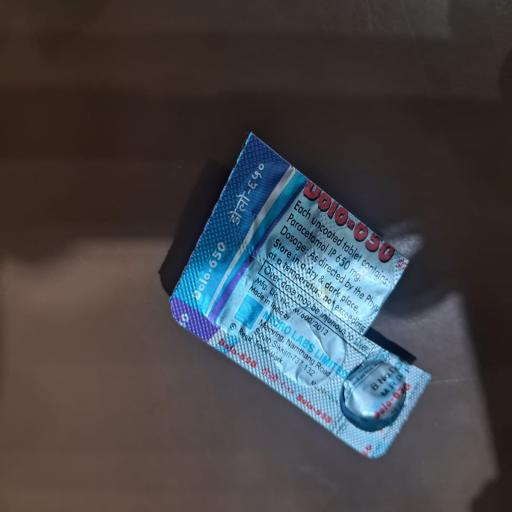dolo-65: (303, 182, 384, 252)
dolo-650: (213, 324, 259, 376), (369, 372, 413, 422), (297, 384, 335, 435)
medicine: (223, 138, 418, 452)
